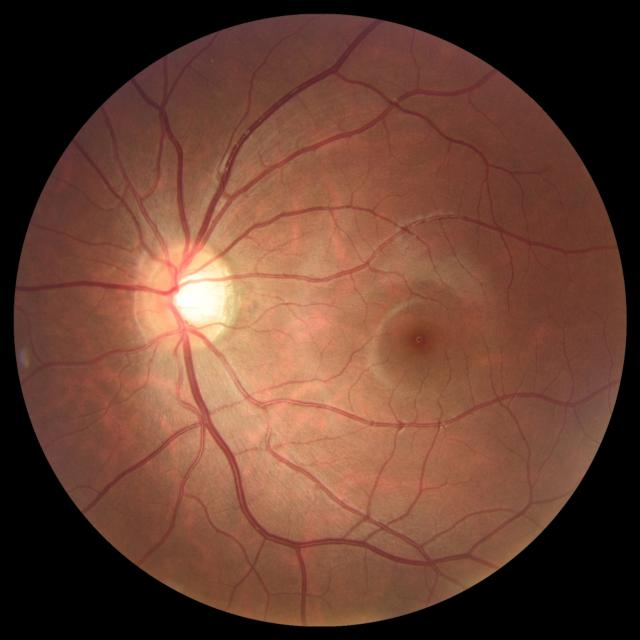OC: (169, 268, 224, 326)
OD: (138, 242, 232, 349)
